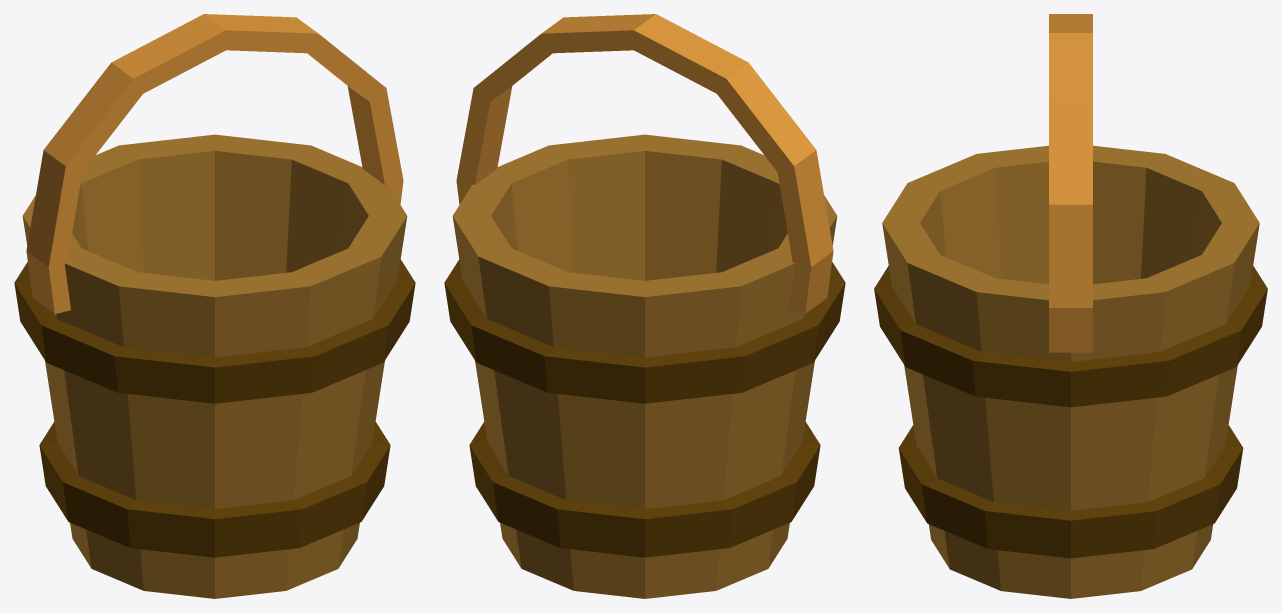
Rendered from Bucket.fbx.
3 renders of one model, left to right at view 1: azimuth 30°, elevation 25°; view 2: azimuth 150°, elevation 25°; view 3: azimuth 270°, elevation 25°, orthographic.
Visible parts, largest first — view 1: Well_01; view 2: Well_01; view 3: Well_01.
Part boxes in pixels (x1,y1,x2,y2): Well_01: [14, 14, 415, 598]; Well_01: [444, 14, 845, 598]; Well_01: [874, 14, 1267, 598].
Bounding box in the file's own units: 9.2 × 12.8 × 9.01.
1 material, 1 textured.
